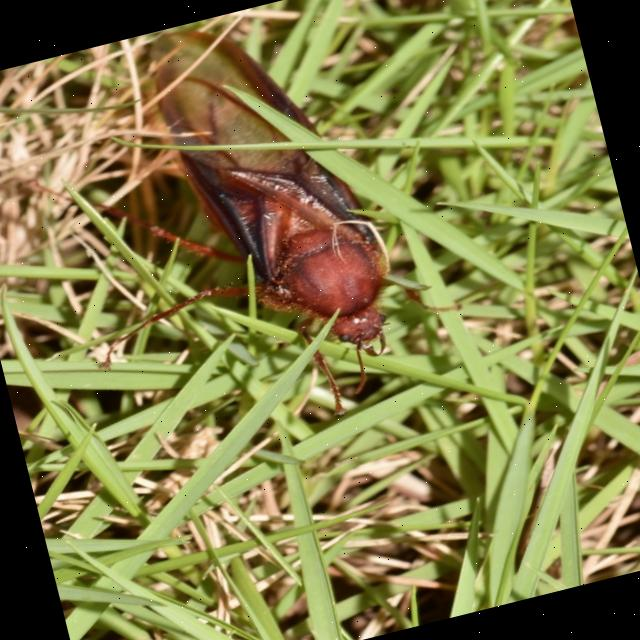Alive-Male-Alate: (0, 0, 483, 476)
